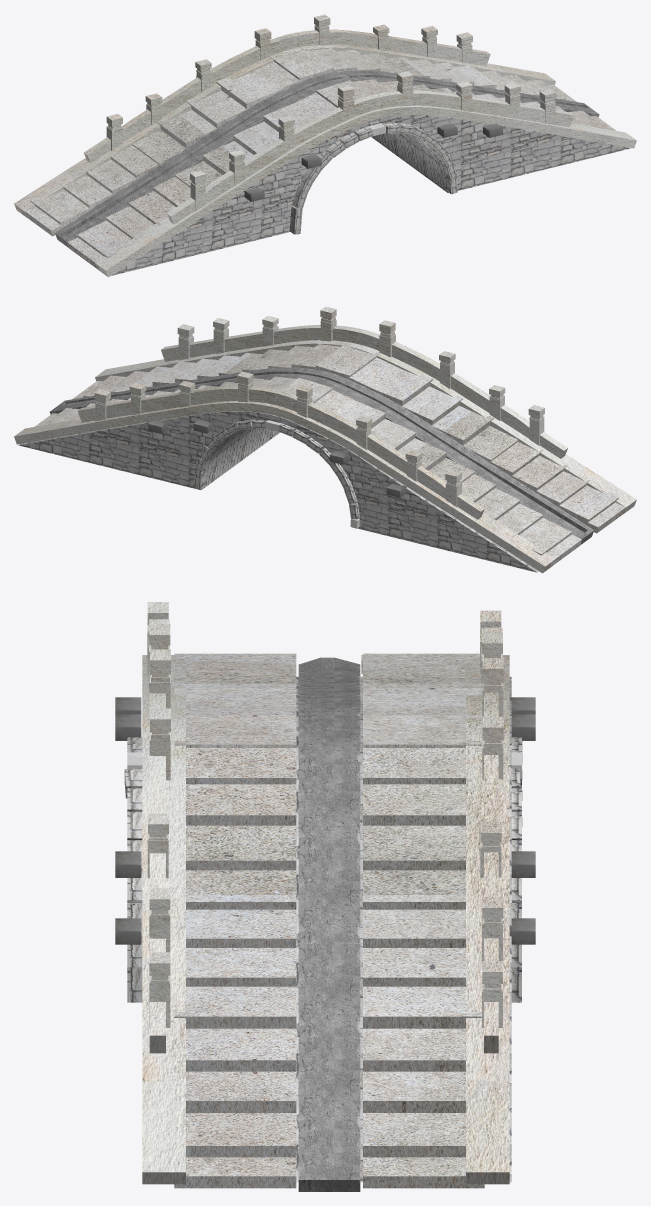
The picture shows the model from 3 angles, top to bottom: view 1: azimuth 30°, elevation 25°; view 2: azimuth 150°, elevation 25°; view 3: azimuth 270°, elevation 25°; orthographic projection. The views are drawn at different scales.
Parts seen in each view (by area): view 1: Line004, 图形007, 图形004, 图形005, 图形006, 图形003, Box079, Box078, Box083, Box077, Box062, Box075 (+23 smaller); view 2: Line004, 图形007, 图形003, 图形005, 图形006, 图形004, Box057, Box056, Box062, Box053, Box055, Box058 (+23 smaller); view 3: 图形007, 图形003, 图形004, Box050, Box043, Box045, Box046, Box072, Box051, Box044, Box065, Box067 (+24 smaller).
Boxes of the visible parts, bbox=[...] form: Line004: bbox=[112, 115, 630, 275]; 图形007: bbox=[55, 70, 599, 247]; 图形004: bbox=[95, 105, 636, 277]; 图形005: bbox=[167, 90, 573, 224]; 图形006: bbox=[83, 29, 490, 163]; 图形003: bbox=[14, 44, 555, 217]; Box079: bbox=[156, 109, 216, 147]; Box078: bbox=[186, 90, 246, 127]; Box083: bbox=[30, 189, 89, 227]; Box077: bbox=[216, 74, 272, 108]; Box062: bbox=[77, 220, 131, 257]; Box075: bbox=[270, 46, 333, 80]; Line004: bbox=[18, 411, 538, 572]; 图形007: bbox=[49, 367, 594, 544]; 图形003: bbox=[14, 401, 555, 573]; 图形005: bbox=[161, 325, 567, 458]; 图形006: bbox=[78, 386, 484, 519]; 图形004: bbox=[95, 340, 636, 513]; Box057: bbox=[432, 405, 493, 445]; Box056: bbox=[402, 386, 462, 425]; Box062: bbox=[559, 485, 618, 525]; Box053: bbox=[315, 343, 379, 379]; Box055: bbox=[376, 370, 432, 406]; Box058: bbox=[463, 426, 518, 462]; 图形007: bbox=[298, 657, 360, 1191]; 图形003: bbox=[466, 655, 509, 1184]; 图形004: bbox=[142, 655, 185, 1184]; Box050: bbox=[186, 825, 296, 870]; Box043: bbox=[186, 1113, 296, 1157]; Box045: bbox=[186, 1028, 296, 1071]; Box046: bbox=[174, 986, 296, 1028]; Box072: bbox=[363, 825, 465, 870]; Box051: bbox=[186, 784, 296, 825]; Box044: bbox=[186, 1071, 296, 1112]; Box065: bbox=[363, 1113, 465, 1157]; Box067: bbox=[363, 1028, 465, 1071].
Bounding box in the file's own units: 3.59 × 0.8366 × 1.23.
Materials: 6 (6 with a texture image).
